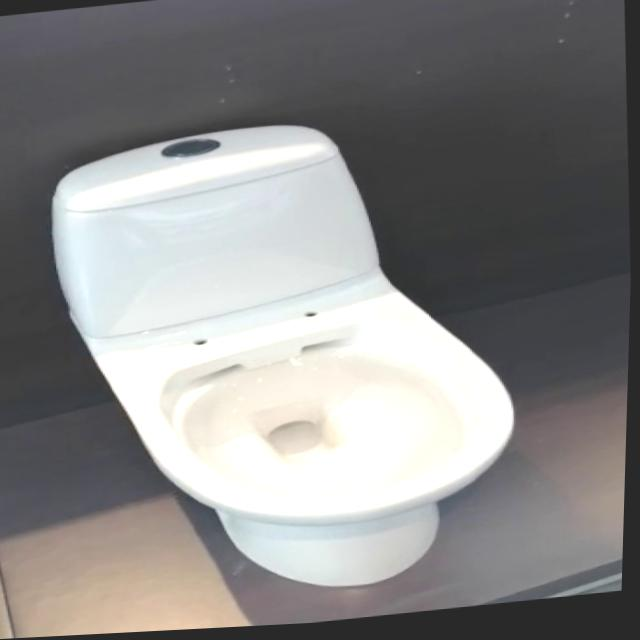toilet: (38, 104, 534, 618)
